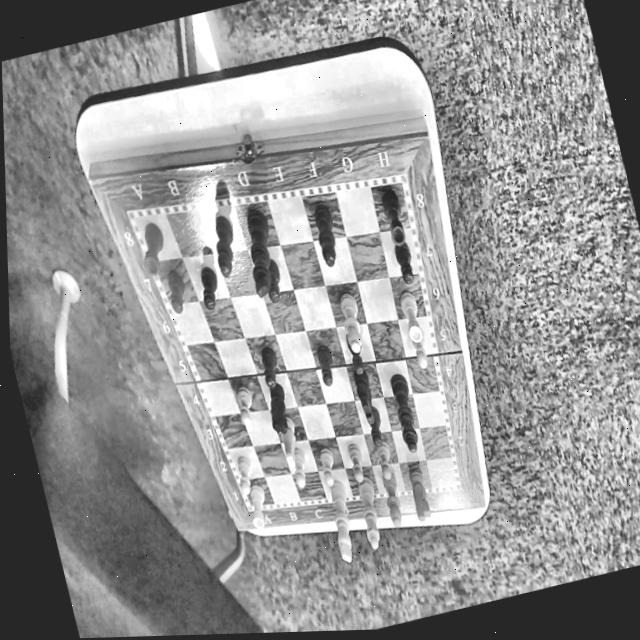chessboard: (134, 183, 458, 506)
